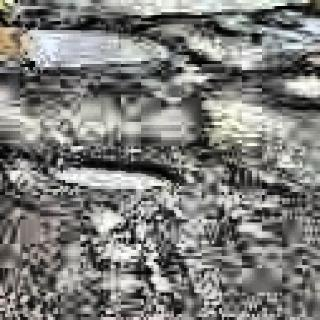crack: (182, 2, 312, 30)
pothole: (14, 21, 173, 73), (56, 156, 177, 195)
